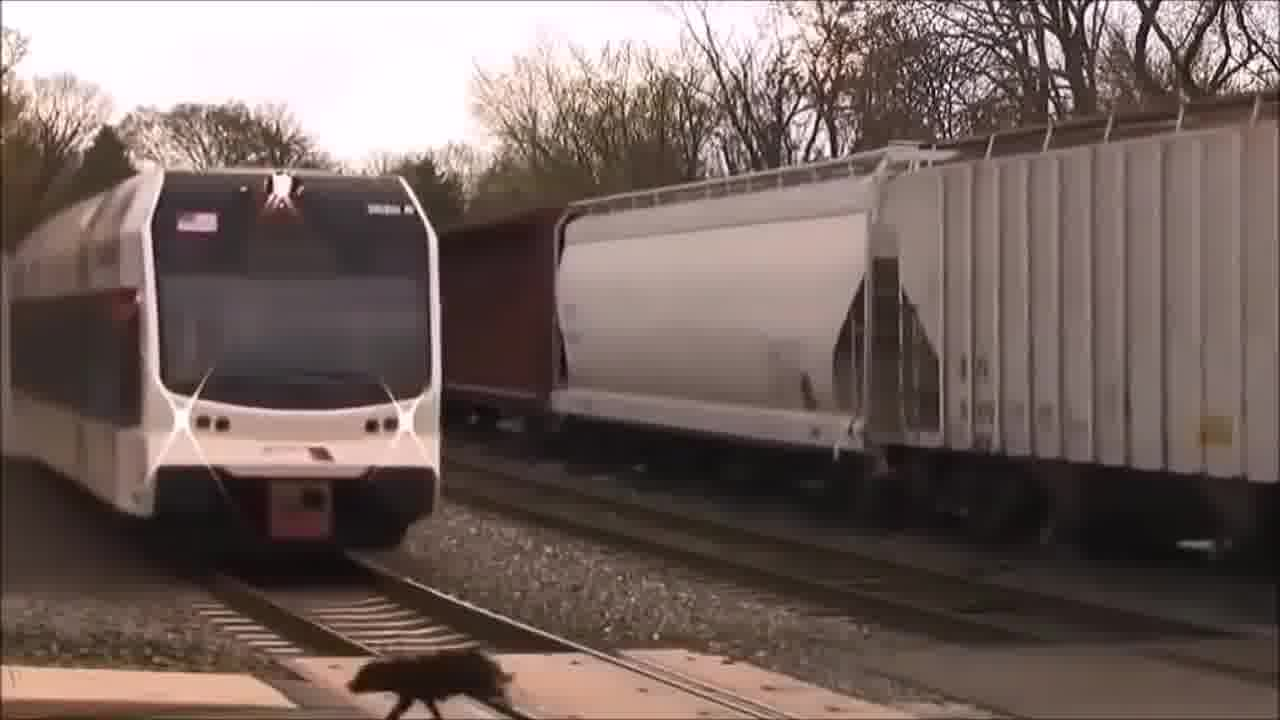crossing railway track: (180, 567, 857, 720)
